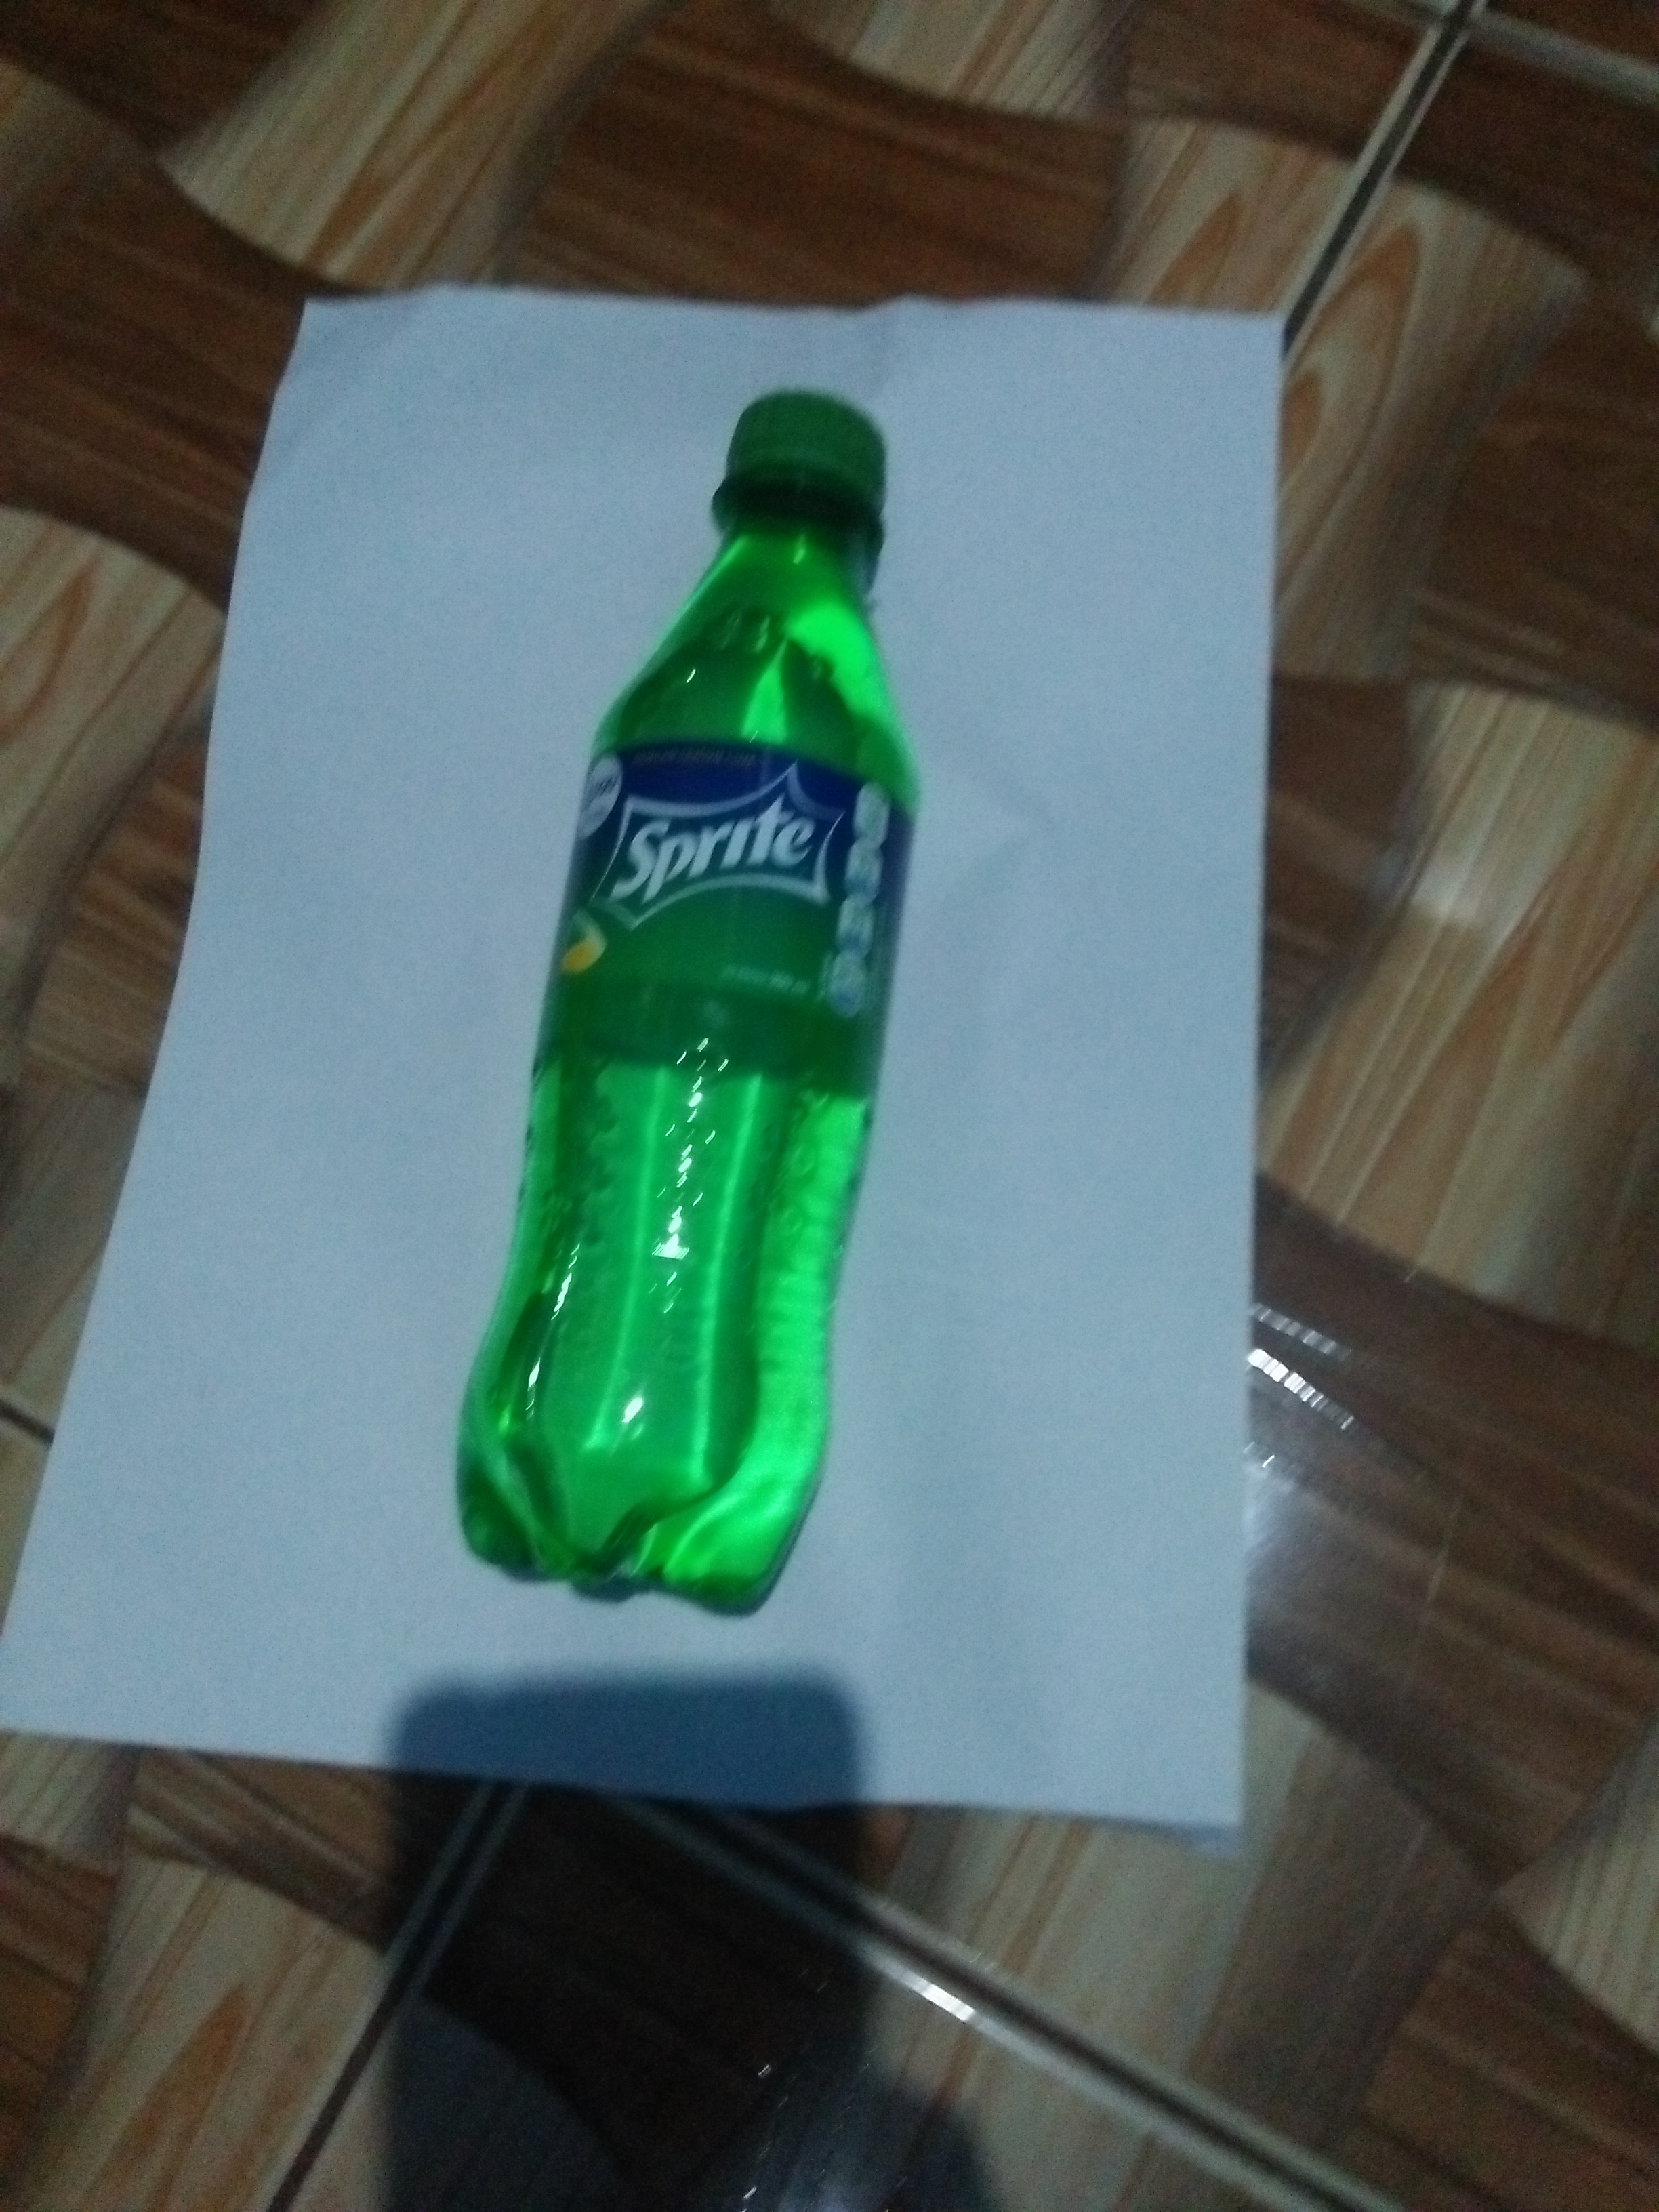Sprite: (437, 373, 939, 1641)
